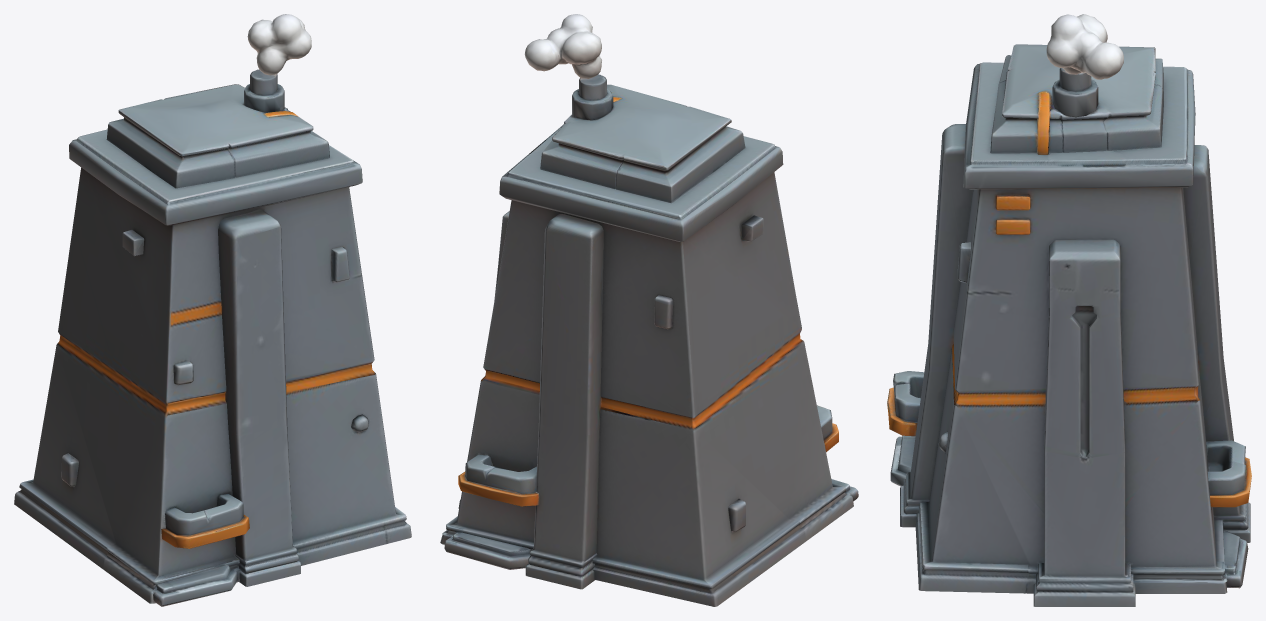
The picture shows the model from 3 angles, left to right: view 1: azimuth 30°, elevation 25°; view 2: azimuth 150°, elevation 25°; view 3: azimuth 270°, elevation 25°; orthographic projection. The views are drawn at different scales.
Visible parts, largest first — view 1: tripo_node_58c70406-9a6e-429f-af0e-6cd5c78753d3; view 2: tripo_node_58c70406-9a6e-429f-af0e-6cd5c78753d3; view 3: tripo_node_58c70406-9a6e-429f-af0e-6cd5c78753d3.
Part boxes in pixels (bbox=[...]): tripo_node_58c70406-9a6e-429f-af0e-6cd5c78753d3: bbox=[14, 14, 411, 606]; tripo_node_58c70406-9a6e-429f-af0e-6cd5c78753d3: bbox=[440, 14, 858, 606]; tripo_node_58c70406-9a6e-429f-af0e-6cd5c78753d3: bbox=[887, 14, 1251, 606].
Bounding box in the file's own units: 0.627 × 0.998 × 0.6074.
Materials: 1 (1 with a texture image).
